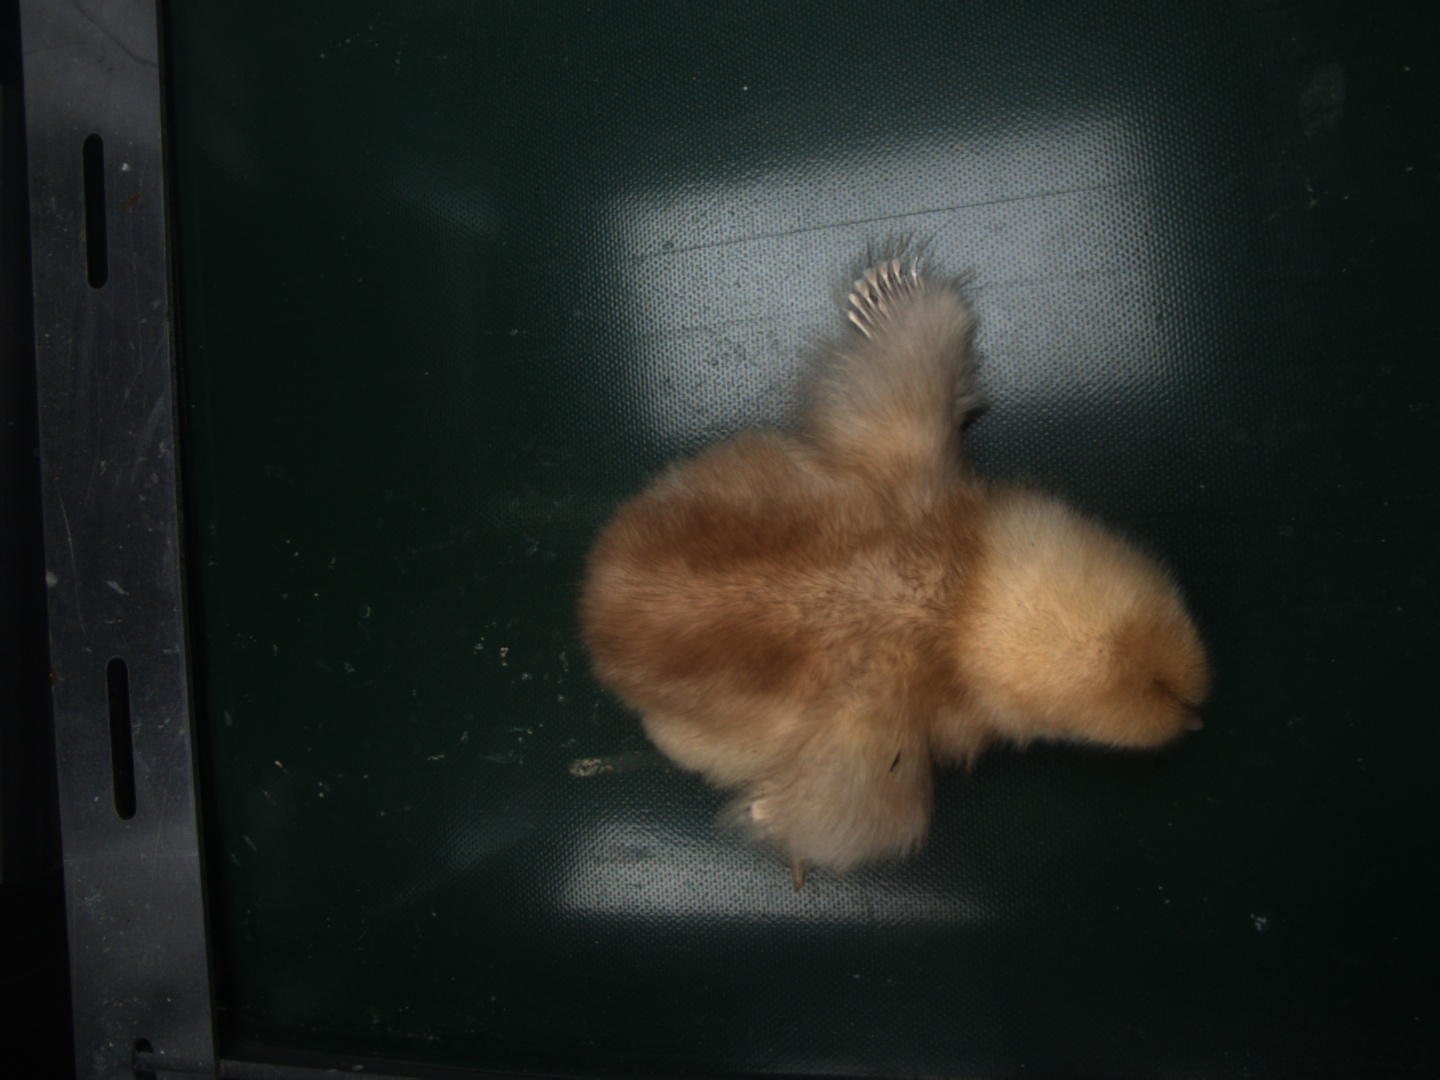female: (844, 255, 927, 340)
